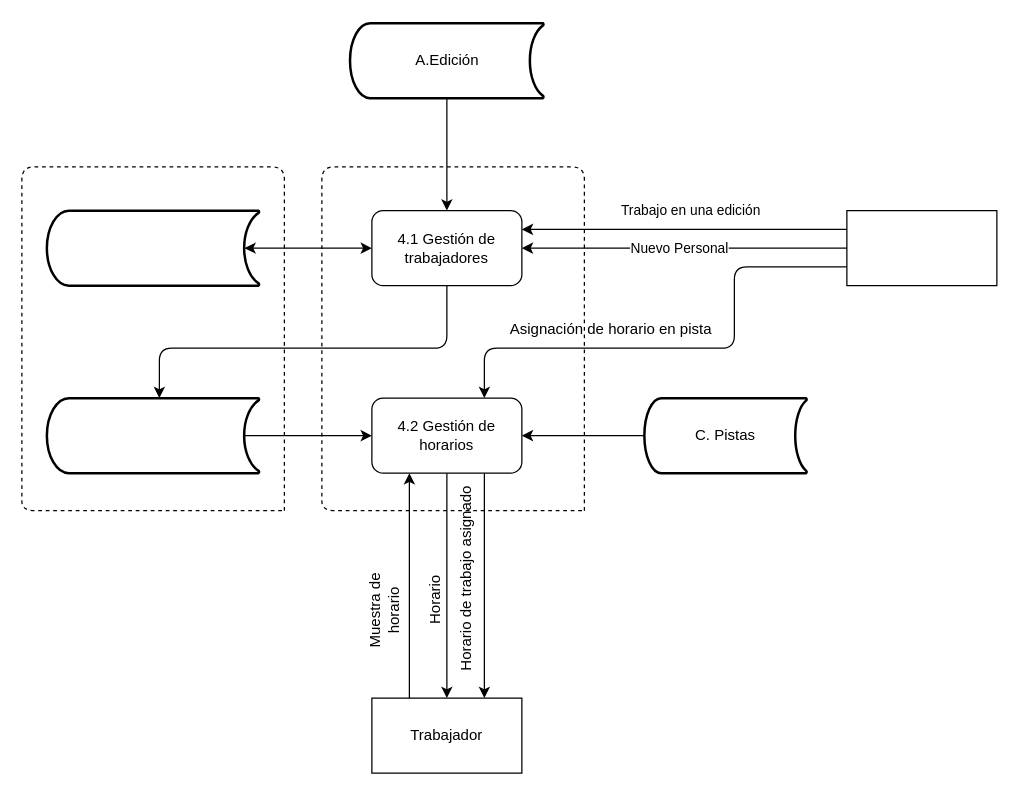
This 1019x795 diagram has some shape labels left out. Each missing label, with the centre of its shape:
"D.Trabajadores" goes at point 152,247.
"E.Horarios de Trabajo" goes at point 152,435.
"Gestor de torneo" goes at point 921,247.
